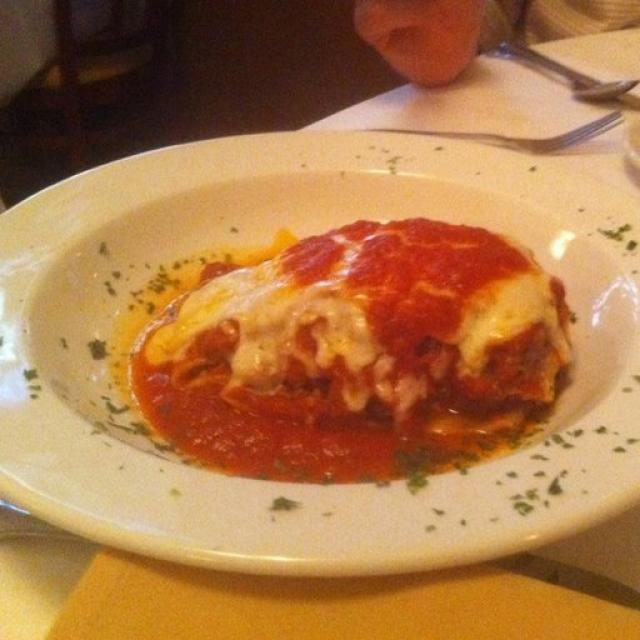Lasagna: (160, 207, 560, 482)
